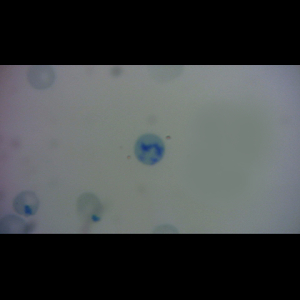aggregate reticulocyte: (132, 132, 167, 167)
erythrocyte: (74, 192, 105, 225), (11, 189, 40, 218), (25, 65, 57, 91)
